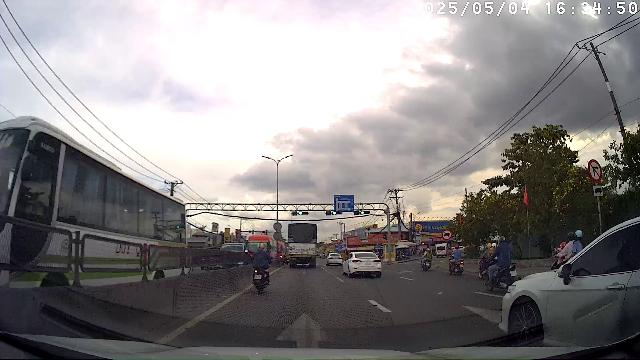123b-cam-re-phai: (588, 159, 603, 182)
